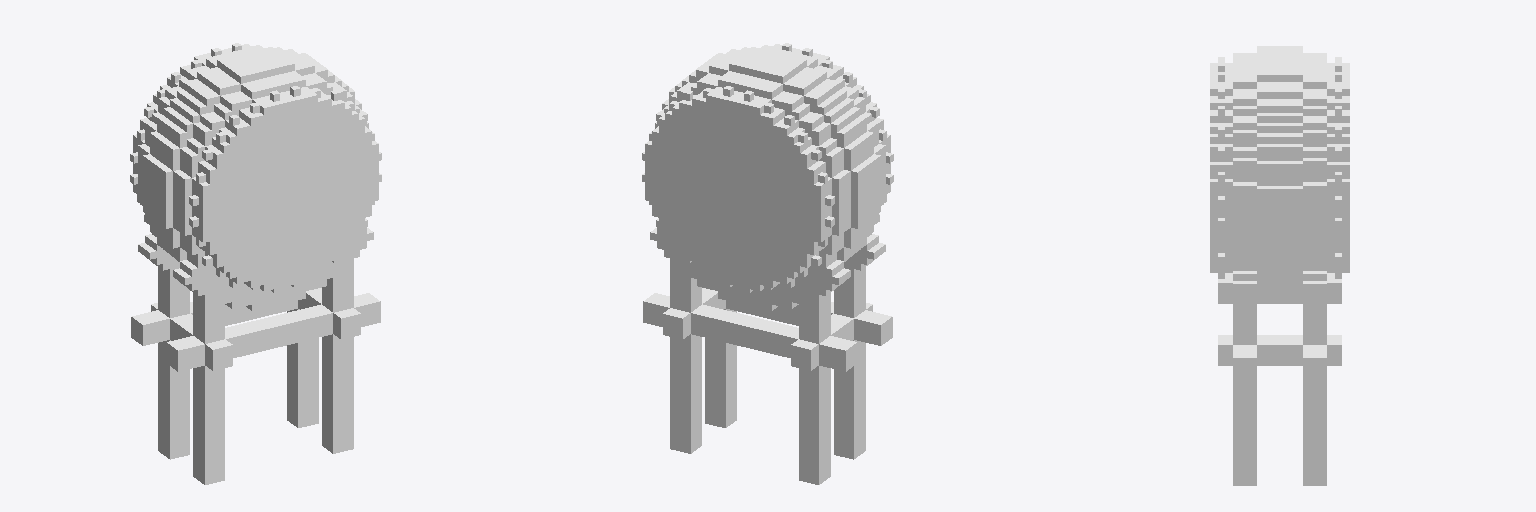
File: drum.obj
The picture shows the model from 3 angles: view 1: azimuth 30°, elevation 25°; view 2: azimuth 150°, elevation 25°; view 3: azimuth 270°, elevation 25°; orthographic projection.
Visible parts, largest first — view 1: object 1; view 2: object 1; view 3: object 1.
Boxes of the visible parts, <box> form: object 1: <box>130,43,381,484</box>; object 1: <box>642,43,893,484</box>; object 1: <box>1210,46,1349,485</box>.
Size of the model in its own units: 3 by 5.5 by 1.8.